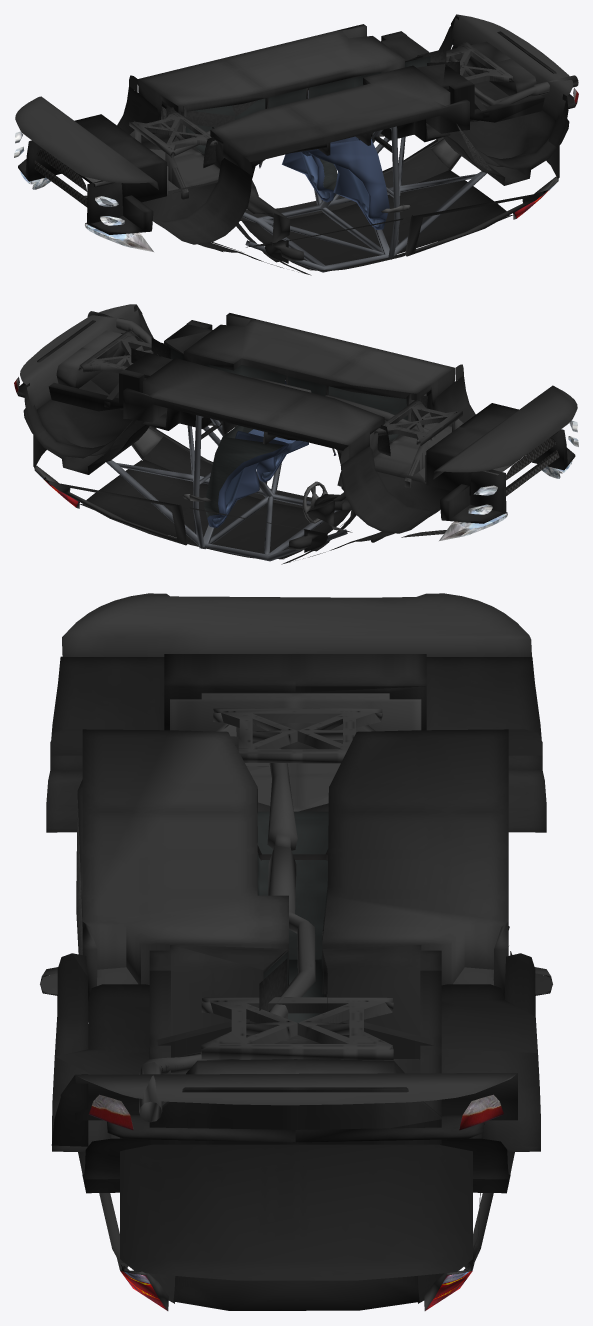
Rendered from FN_interior_d2.obj.
3 renders of one model, top to bottom at view 1: azimuth 30°, elevation 25°; view 2: azimuth 150°, elevation 25°; view 3: azimuth 270°, elevation 25°, orthographic. The views are drawn at different scales.
Parts seen in each view (by area): view 1: FN_interior; view 2: FN_interior; view 3: FN_interior.
Boxes of the visible parts, x1,y1,x2,y2 form: FN_interior: (14, 14, 578, 275); FN_interior: (14, 304, 578, 564); FN_interior: (40, 593, 552, 1310).
Bounding box in the file's own units: 3.97 × 1.25 × 1.81.
Materials: 1 (1 with a texture image).
